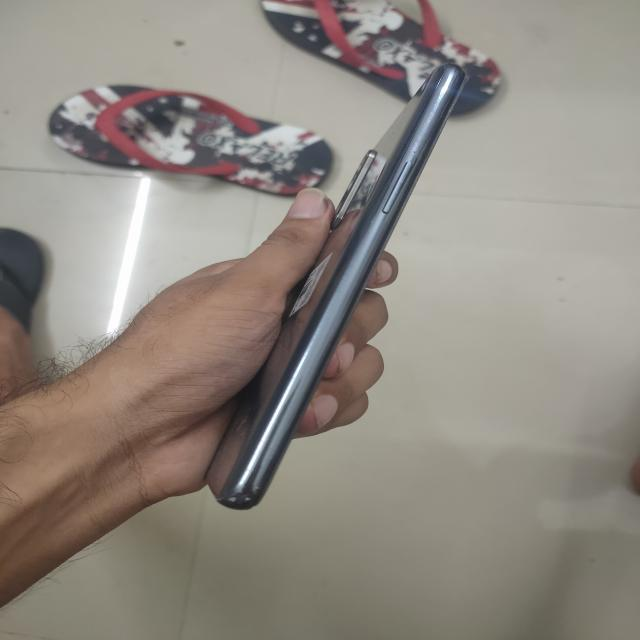Phone: (206, 66, 467, 509)
